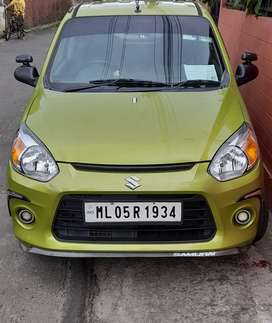ML05R1934: (83, 201, 180, 222)
